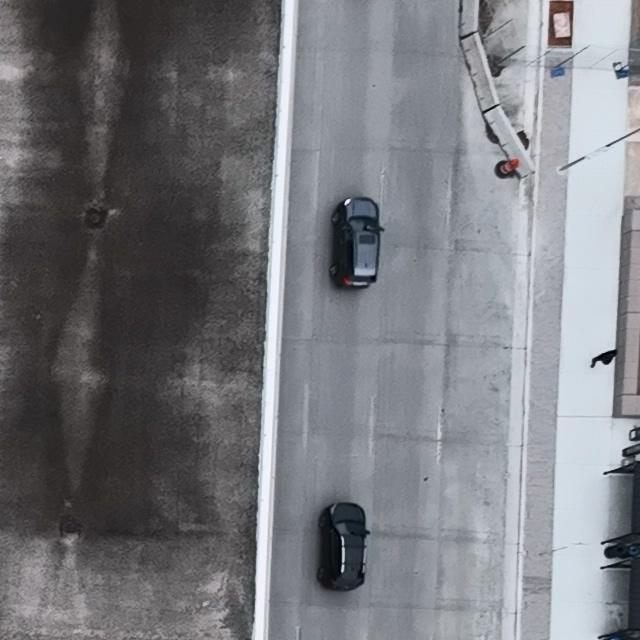car: (330, 198, 386, 291), (315, 503, 370, 591)
